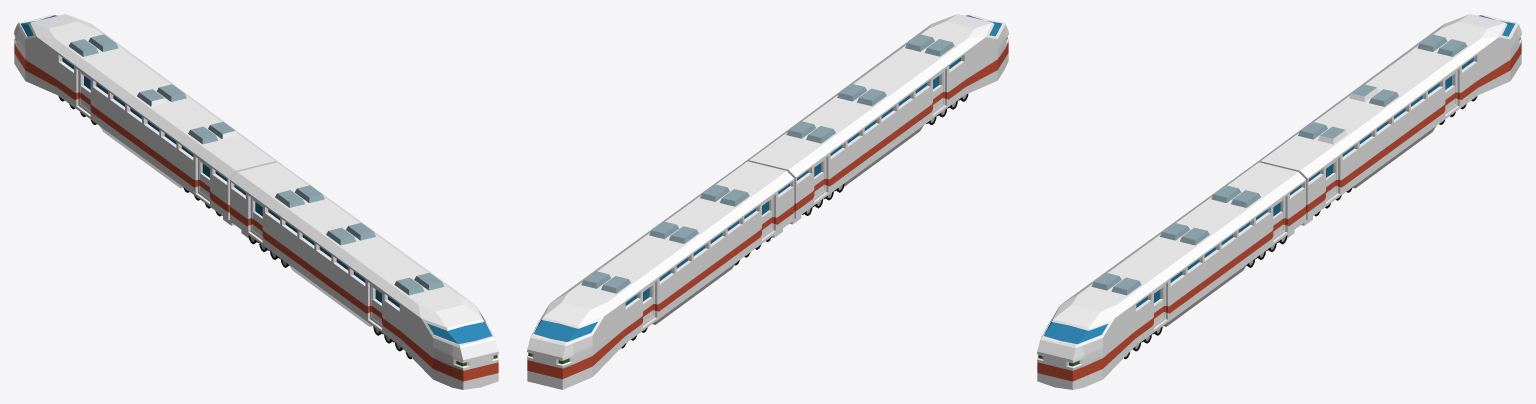
Rendered from train5.glb.
3 views of the same model, side by side, from view 1: azimuth 30°, elevation 25°; view 2: azimuth 150°, elevation 25°; view 3: azimuth 330°, elevation 25° (orthographic).
Parts seen in each view (by area): view 1: Train_0; view 2: Train_0; view 3: Train_0.
Boxes of the visible parts, x1=… form: Train_0: x1=14, y1=14, x2=498, y2=389; Train_0: x1=527, y1=14, x2=1008, y2=389; Train_0: x1=1037, y1=14, x2=1521, y2=389.
Bounding box in the file's own units: 2 × 2.19 × 28.47.
Materials: 1 (1 with a texture image).
